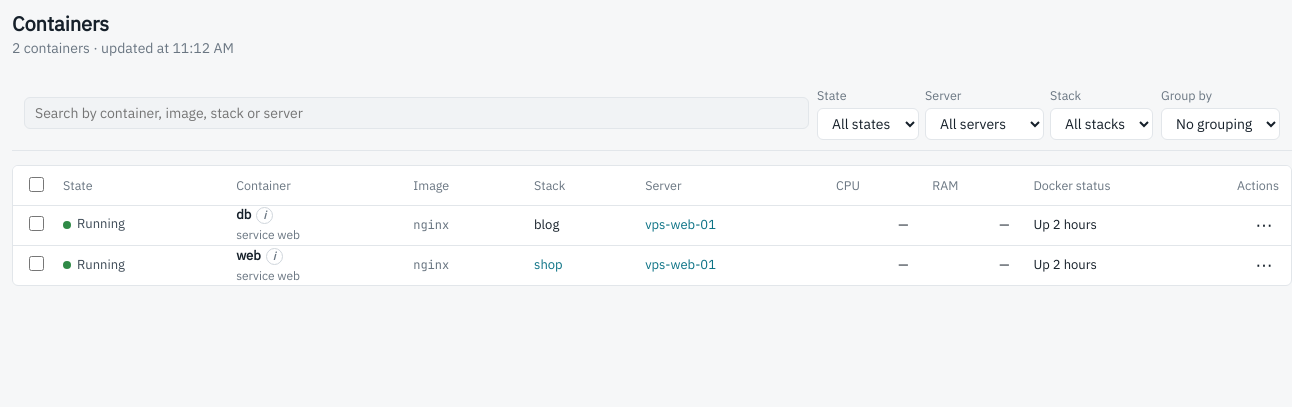
it: Containers › filters by URL query and clears the filters
Expected: the text "db" is shown, [236, 206, 251, 225]
Type "db" into the search field at x=416, y=113, box [24, 97, 809, 129]
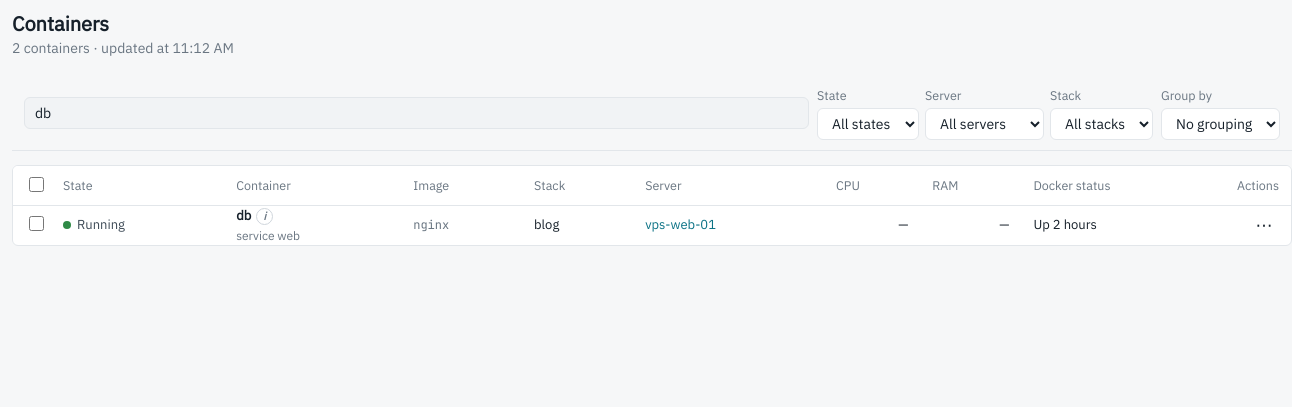
Expected: the text "db" is shown, [236, 207, 251, 226]
Replace the text in the search field with "nothing" at x=416, y=113, box [24, 97, 809, 129]
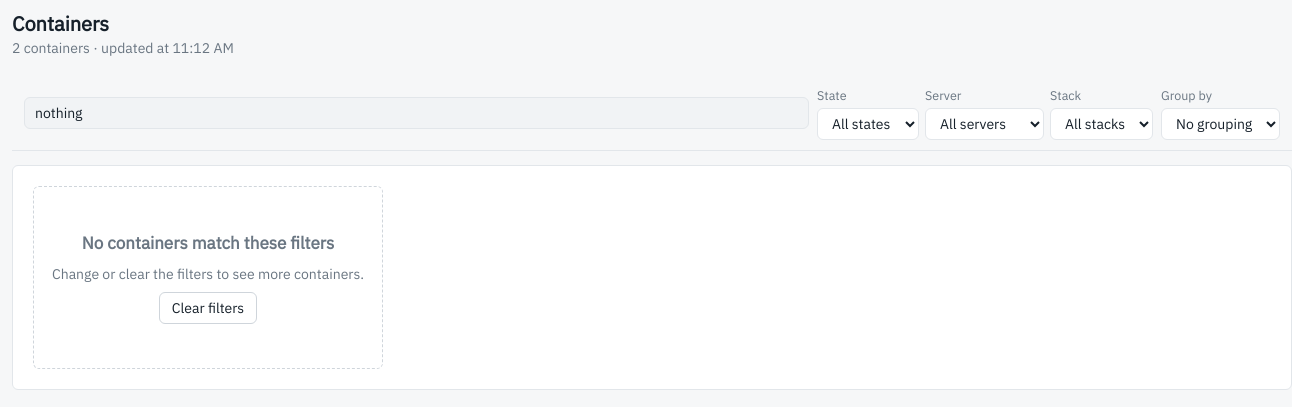
Now the heading "No containers match these filters" is shown, box [82, 231, 334, 256]
Click the button "Clear filters" at x=208, y=308, box [159, 292, 257, 324]
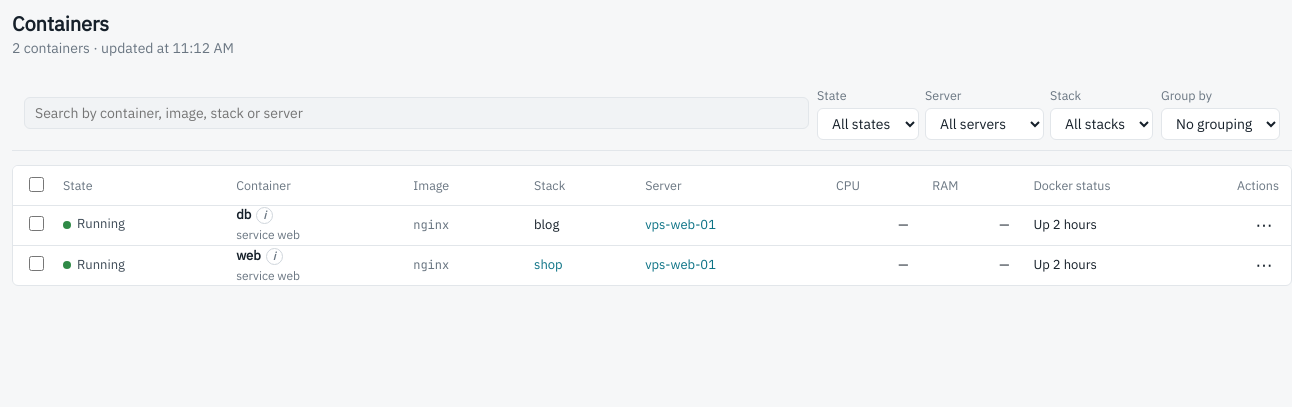
Now the text "web" is shown, box [236, 247, 261, 266]
